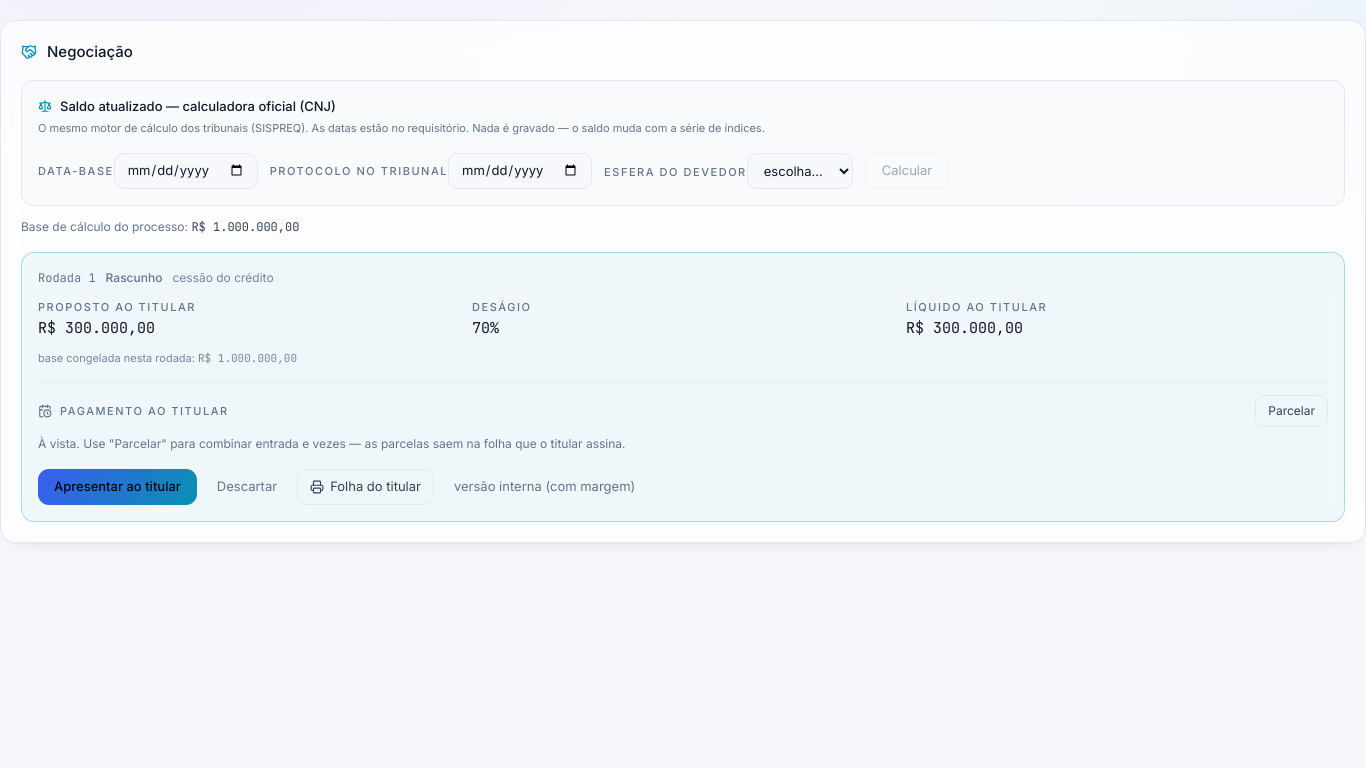
Test: Negociação do processo › erro do servidor aparece na tela, em vez de sumir
The width and height of the screenshot is (1366, 768).
Click the button "Apresentar ao titular": {"x": 117, "y": 487} left=38, top=469, right=197, bottom=505
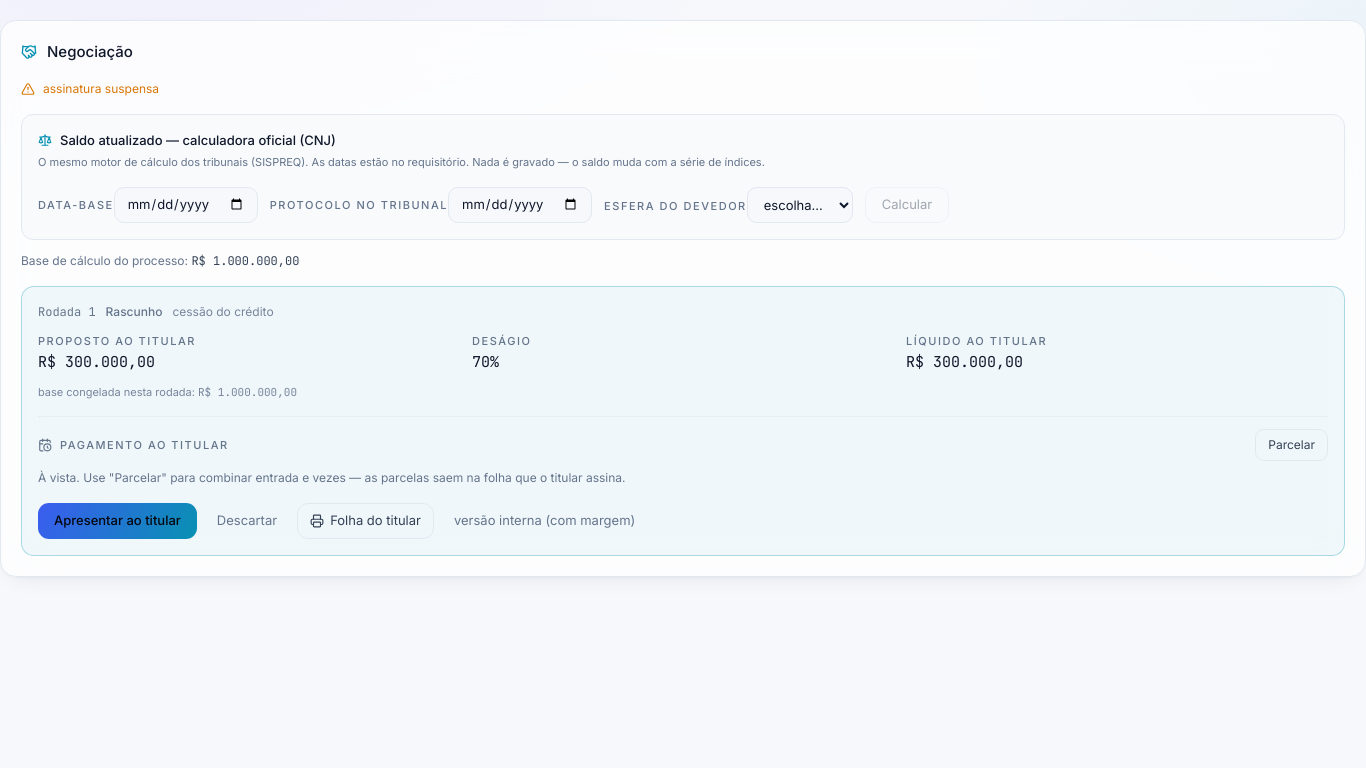
Expected: the text "assinatura suspensa" is shown, left=43, top=80, right=159, bottom=98
